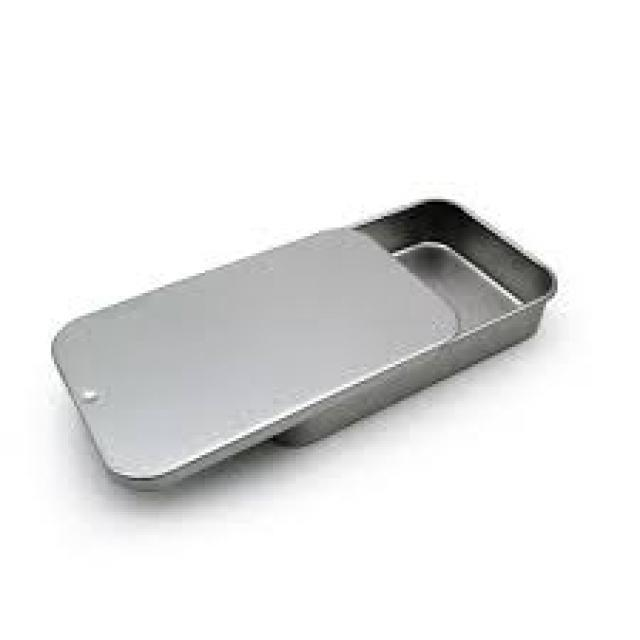recyclable: (52, 225, 464, 490), (273, 195, 562, 446)
